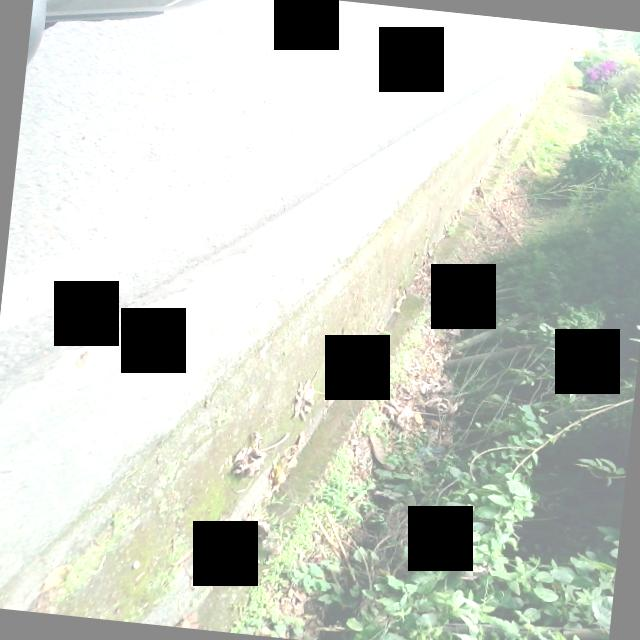DITCH: (0, 0, 634, 640), (0, 0, 585, 640)
